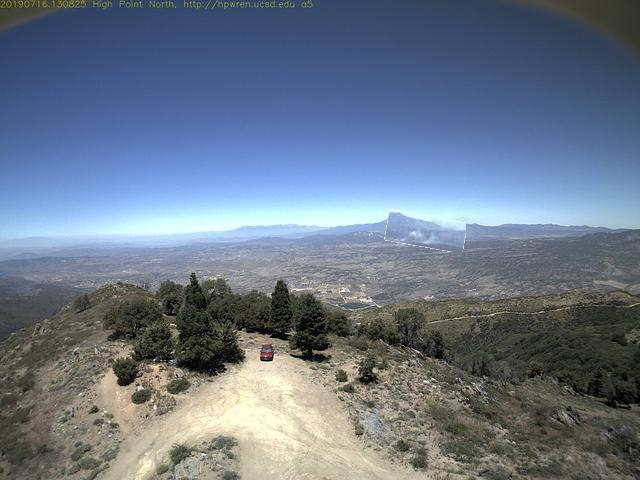smoke: (386, 214, 467, 251)
